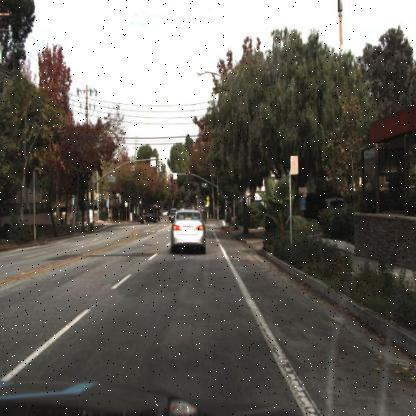car: (166, 202, 213, 259), (168, 205, 208, 256), (317, 191, 360, 217), (132, 207, 162, 230), (136, 208, 161, 225)
trafficLight-Red: (214, 185, 222, 204), (186, 163, 193, 182), (216, 184, 223, 203), (168, 170, 175, 187), (167, 170, 173, 186), (186, 168, 191, 184)
